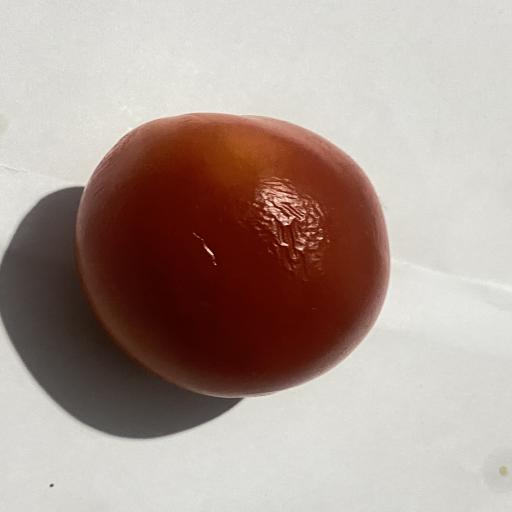overipe: (74, 113, 390, 397)
